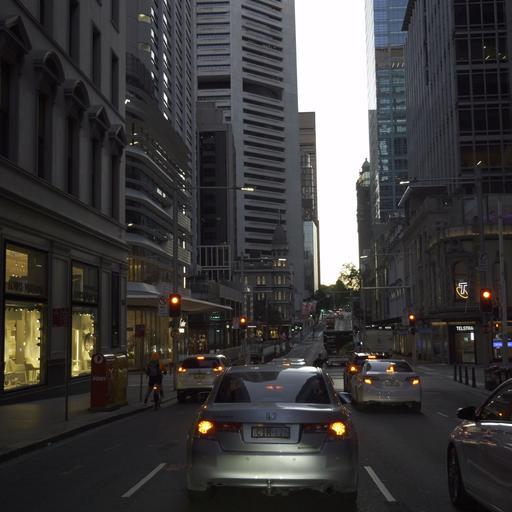Street light: (397, 159, 494, 385), (169, 182, 254, 364), (479, 287, 493, 313)
